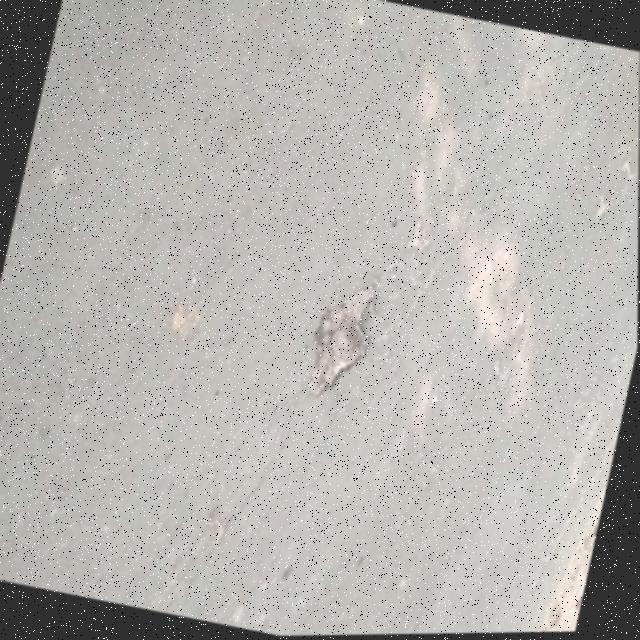pothole: (291, 256, 400, 415)
